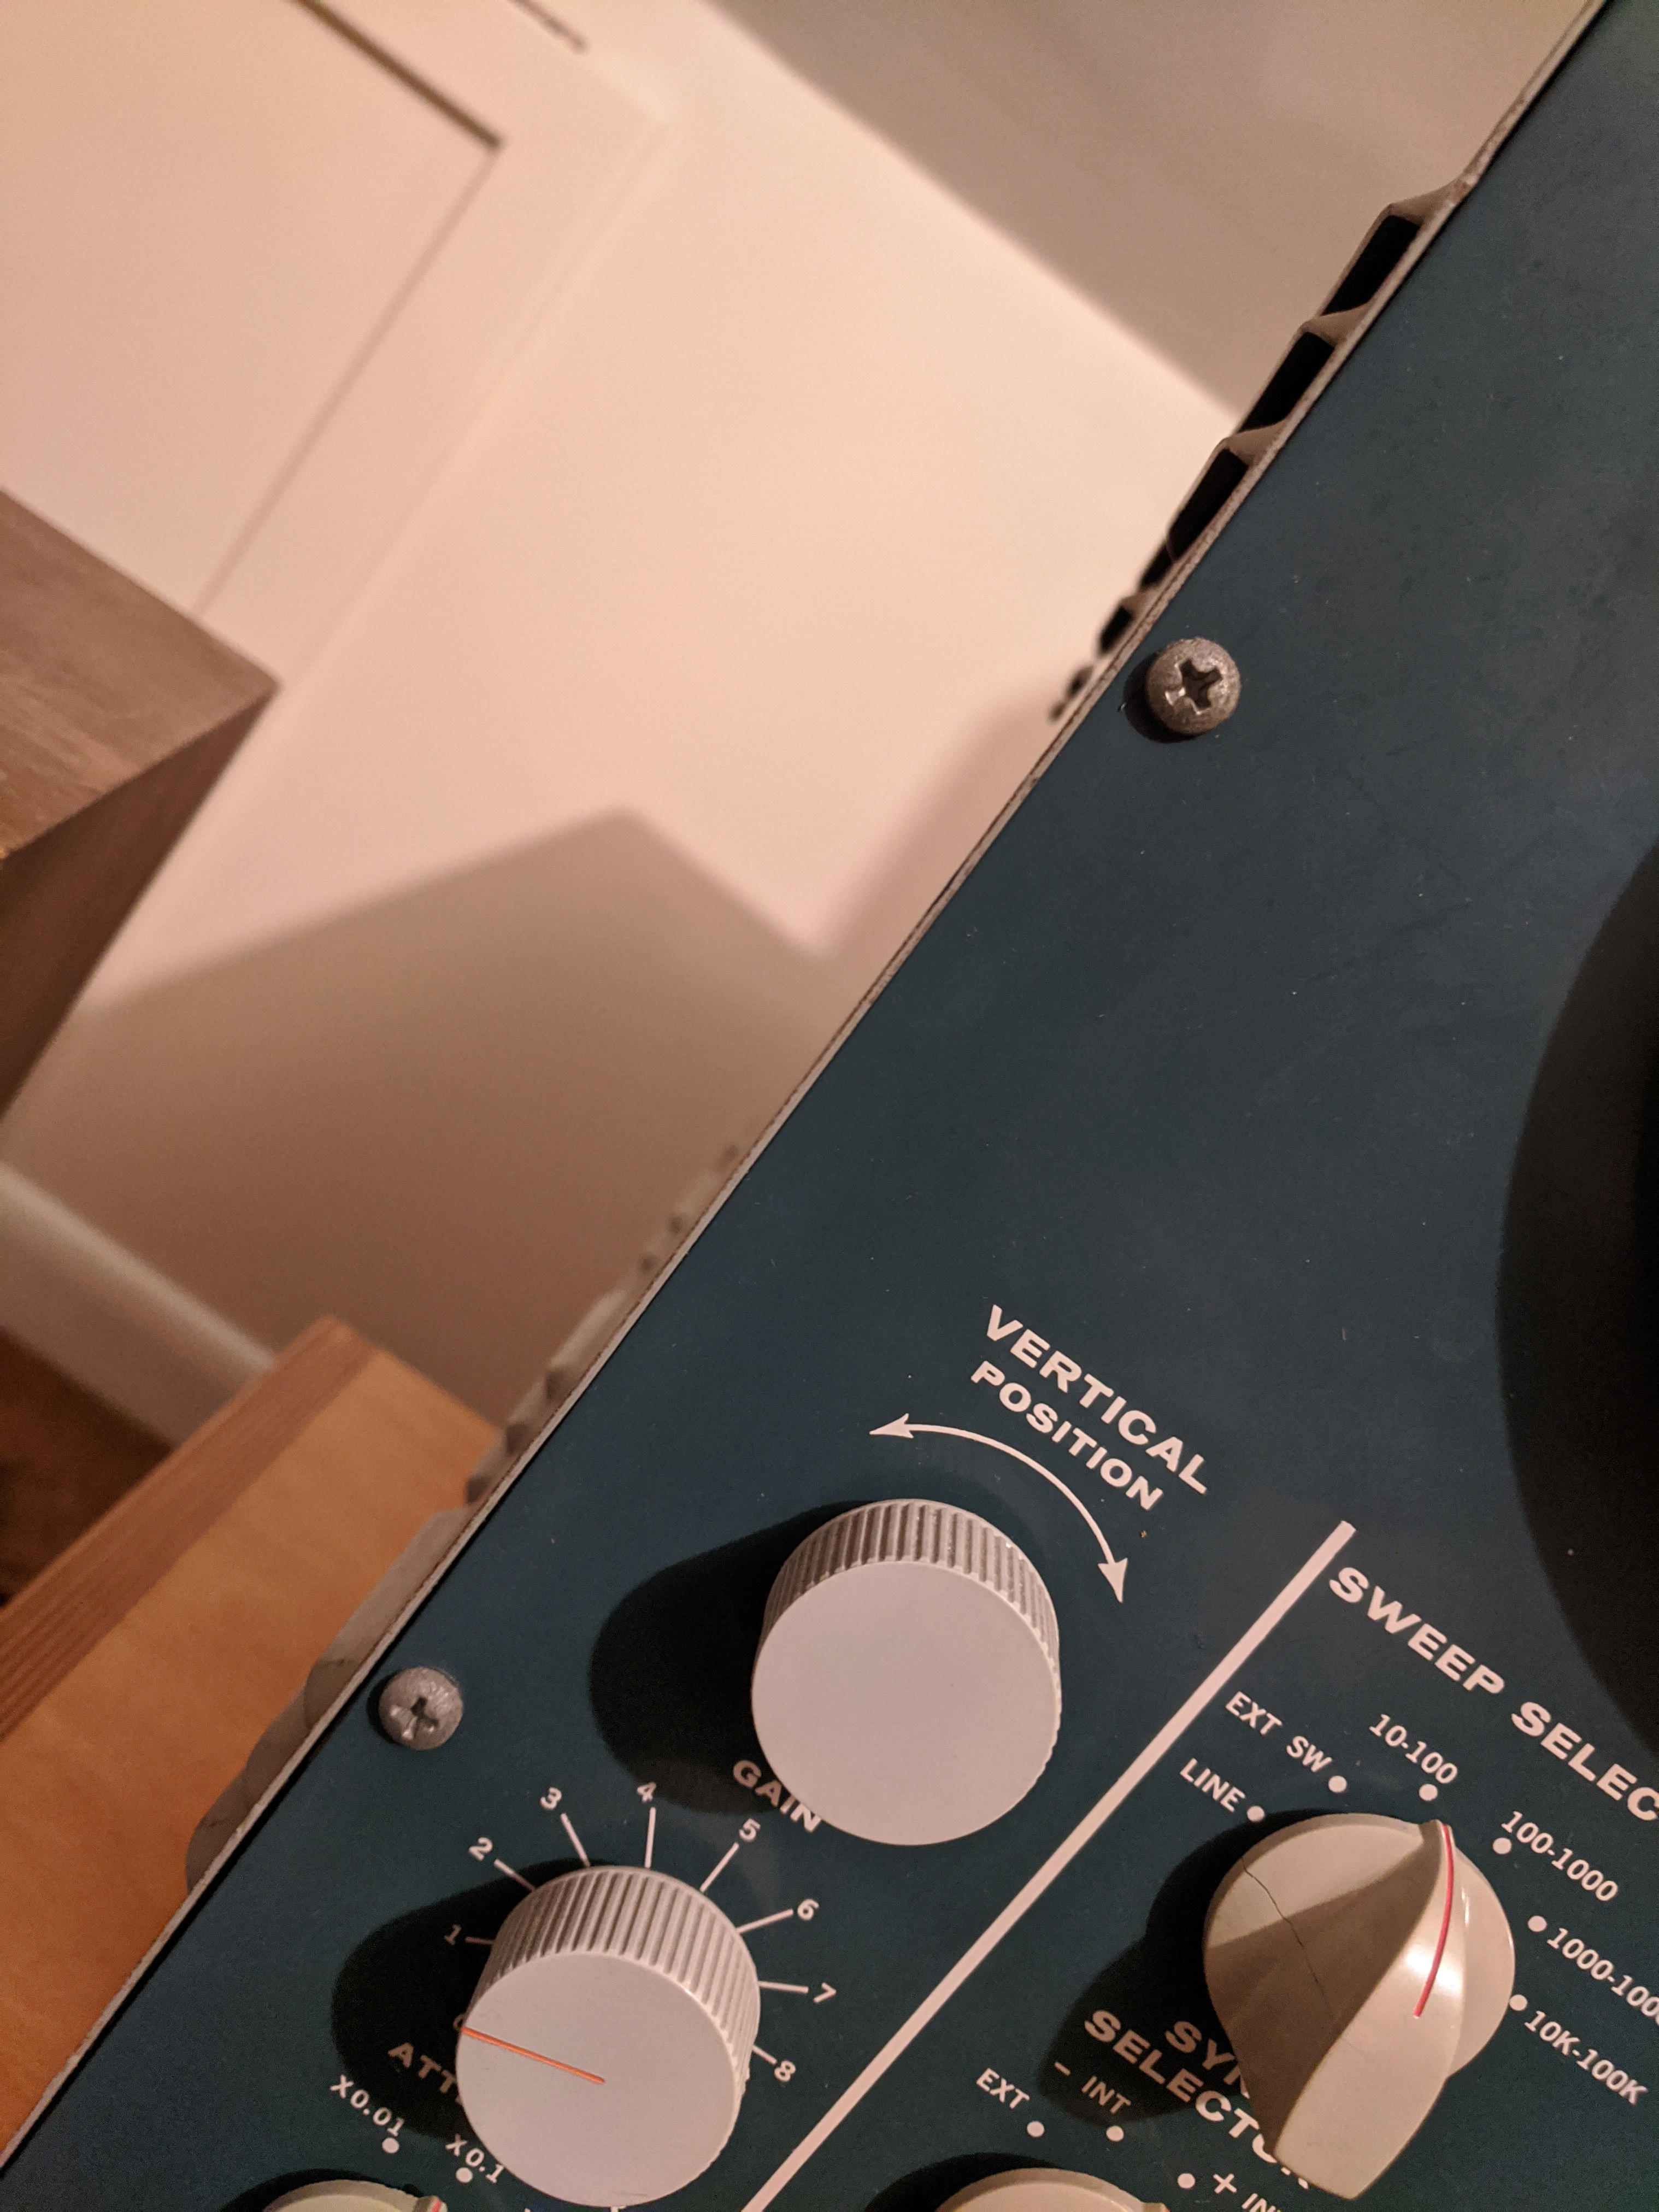cross_recessed_screw: (1127, 618, 1249, 733), (361, 1660, 469, 1763)
